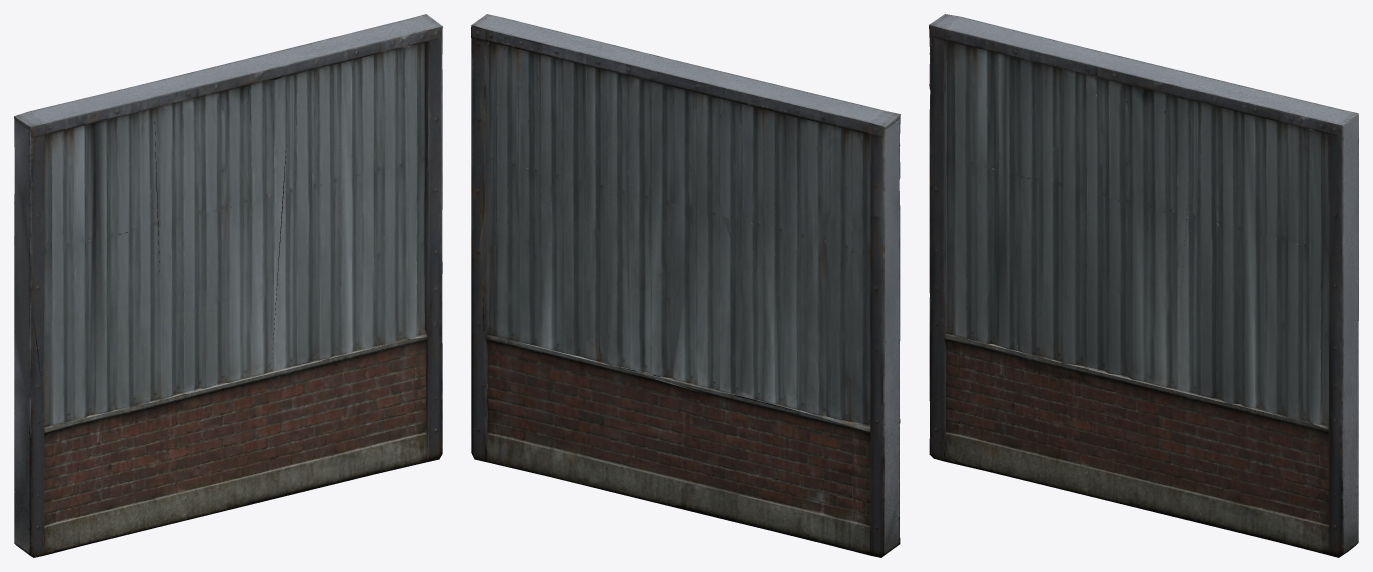
File: wall.glb
3 renders of one model, left to right at view 1: azimuth 30°, elevation 25°; view 2: azimuth 150°, elevation 25°; view 3: azimuth 330°, elevation 25°, orthographic.
Visible parts, largest first — view 1: wall-detail; view 2: wall-detail; view 3: wall-detail.
Boxes of the visible parts, <box> form: wall-detail: <box>14,14,442,557</box>; wall-detail: <box>471,14,900,557</box>; wall-detail: <box>929,14,1358,557</box>.
Size of the model in its own units: 4 by 4 by 0.3.
Materials: 1 (1 with a texture image).
